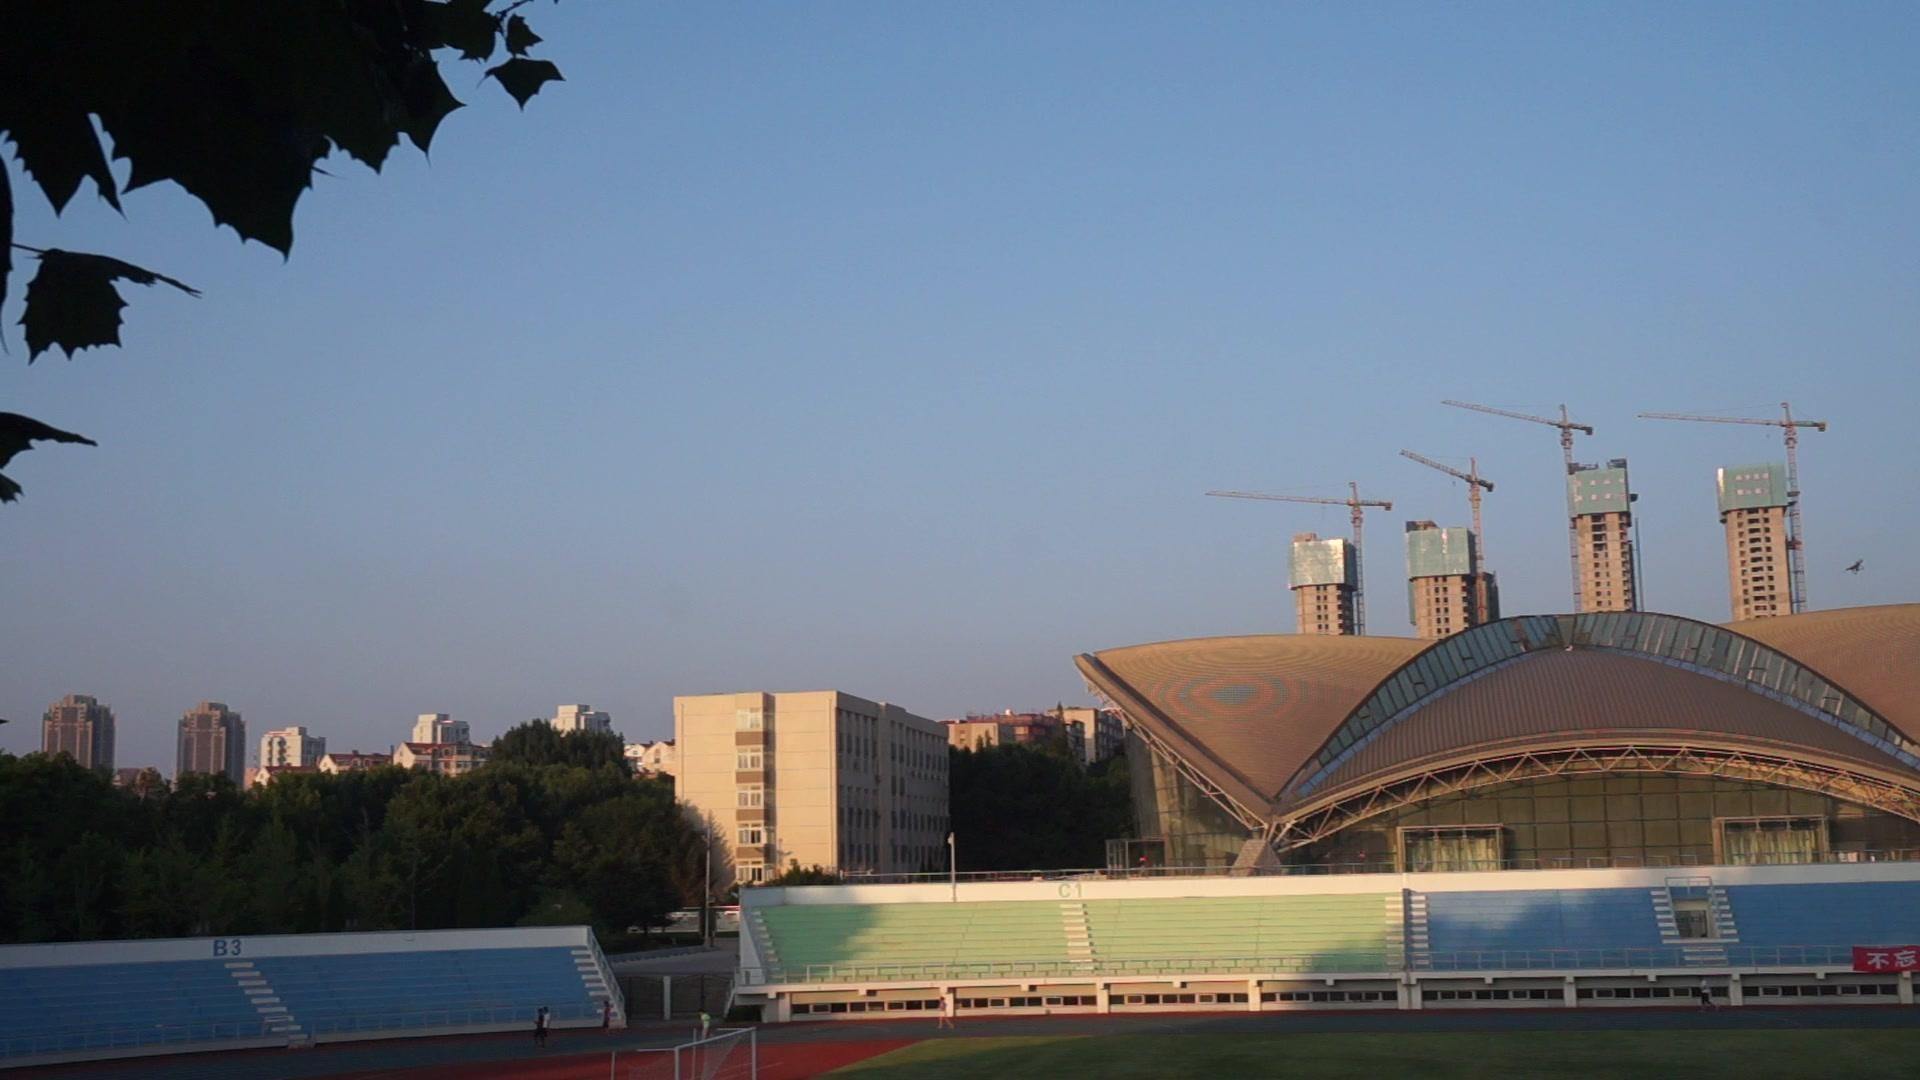UAV: (1844, 559, 1865, 575)
